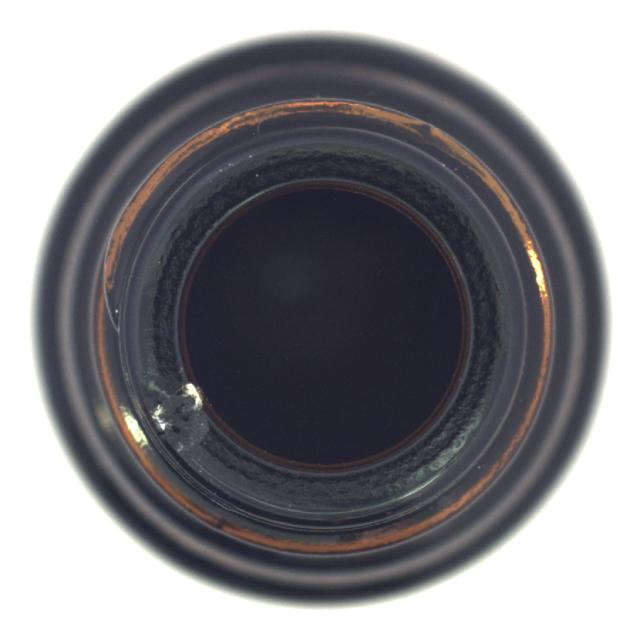bad-broken_small: (30, 29, 612, 610)
